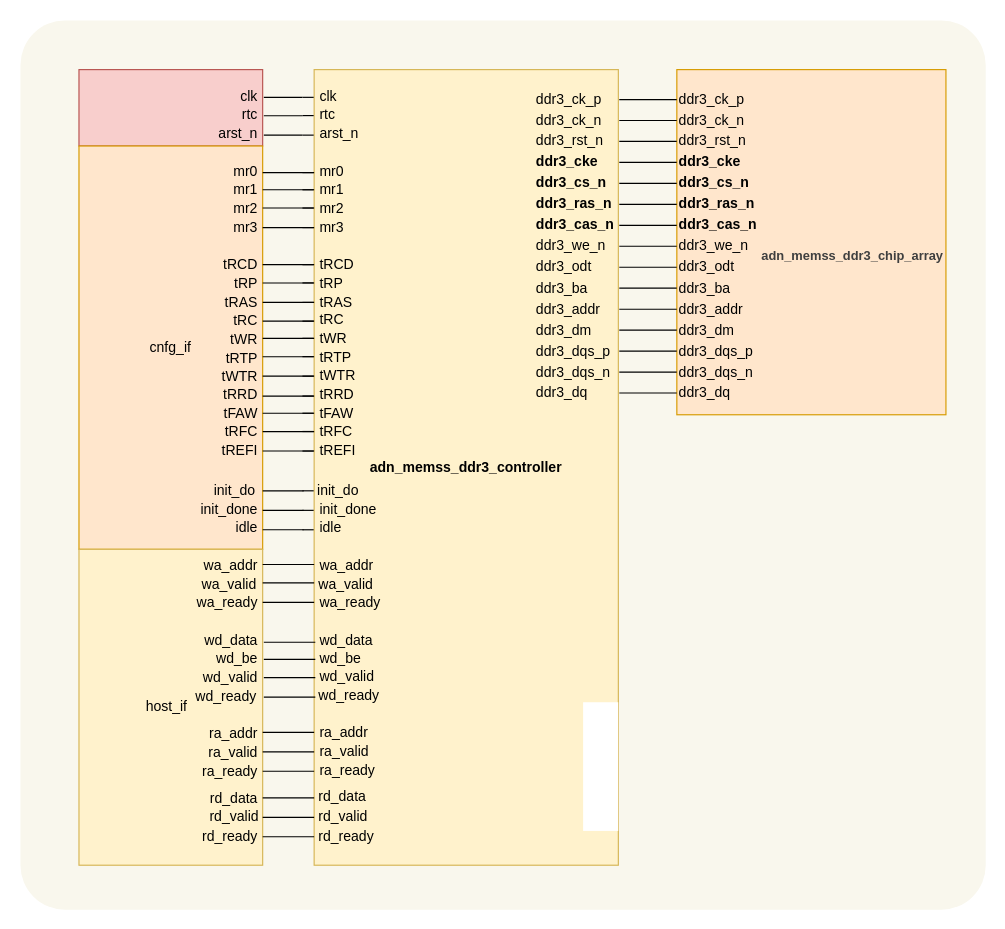
This 1005x929 diagram has some shape labels left out. The shapes that lost their labels are listed below. From the top down, each one's box as (x1, y1, x2, y2) in pixels, then its label:
(78, 68, 263, 146): ctrl_if
(583, 702, 618, 830): DUT
